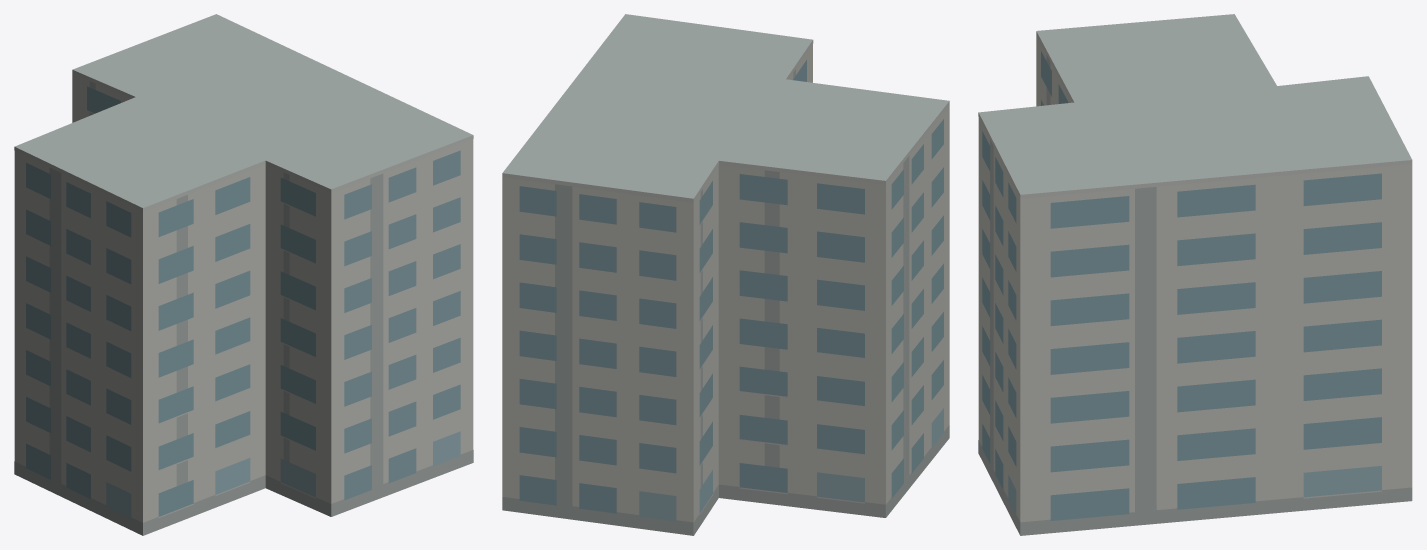
The model's file is survey-upis-32704626.glb.
3 renders of one model, left to right at view 1: azimuth 30°, elevation 25°; view 2: azimuth 150°, elevation 25°; view 3: azimuth 270°, elevation 25°, orthographic. The views are drawn at different scales.
Visible parts, largest first — view 1: survey-upis-32704626.tmp; view 2: survey-upis-32704626.tmp; view 3: survey-upis-32704626.tmp.
Boxes of the visible parts, <box> form: survey-upis-32704626.tmp: <box>14,14,473,535</box>; survey-upis-32704626.tmp: <box>502,14,949,535</box>; survey-upis-32704626.tmp: <box>978,14,1412,535</box>.
Bounding box in the file's own units: 23.15 × 20.35 × 23.47.
